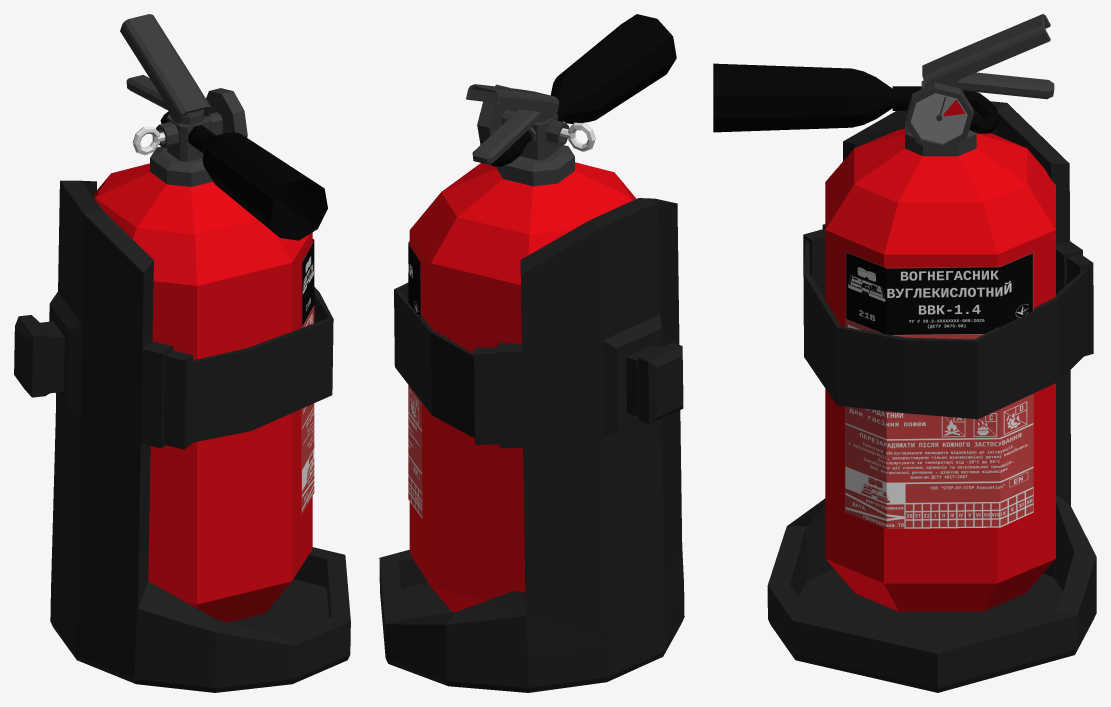
3 renders of one model, left to right at view 1: azimuth 30°, elevation 25°; view 2: azimuth 150°, elevation 25°; view 3: azimuth 270°, elevation 25°, orthographic. The views are drawn at different scales.
Parts seen in each view (by area): view 1: ExtinguisherHolder, Extinguisher, Hose, Handle, Sticker, Pin; view 2: ExtinguisherHolder, Extinguisher, Hose, Sticker, Handle, Pin; view 3: ExtinguisherHolder, Extinguisher, Sticker, Hose, Handle.
Part boxes in pixels (<box>): ExtinguisherHolder: <box>14,180,350,692</box>; Extinguisher: <box>93,75,312,622</box>; Hose: <box>202,132,327,240</box>; Handle: <box>120,14,211,123</box>; Sticker: <box>301,239,314,514</box>; Pin: <box>132,126,165,155</box>; ExtinguisherHolder: <box>379,198,684,692</box>; Extinguisher: <box>409,84,636,612</box>; Hose: <box>550,14,676,123</box>; Sticker: <box>408,241,422,518</box>; Handle: <box>466,84,559,118</box>; Pin: <box>559,122,595,151</box>; ExtinguisherHolder: <box>767,101,1096,692</box>; Extinguisher: <box>825,72,1055,611</box>; Sticker: <box>845,251,1033,528</box>; Hose: <box>713,63,892,132</box>; Handle: <box>922,14,1050,86</box>.
Size of the model in its own units: 1.28 by 2.29 by 1.33.
8 materials, 1 textured.
